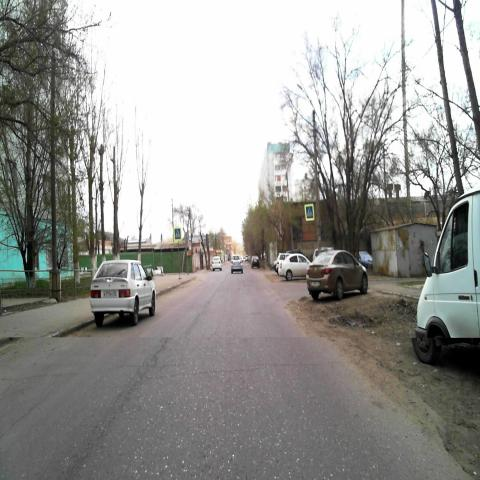5_19_1: (304, 203, 314, 222), (173, 227, 181, 241)
